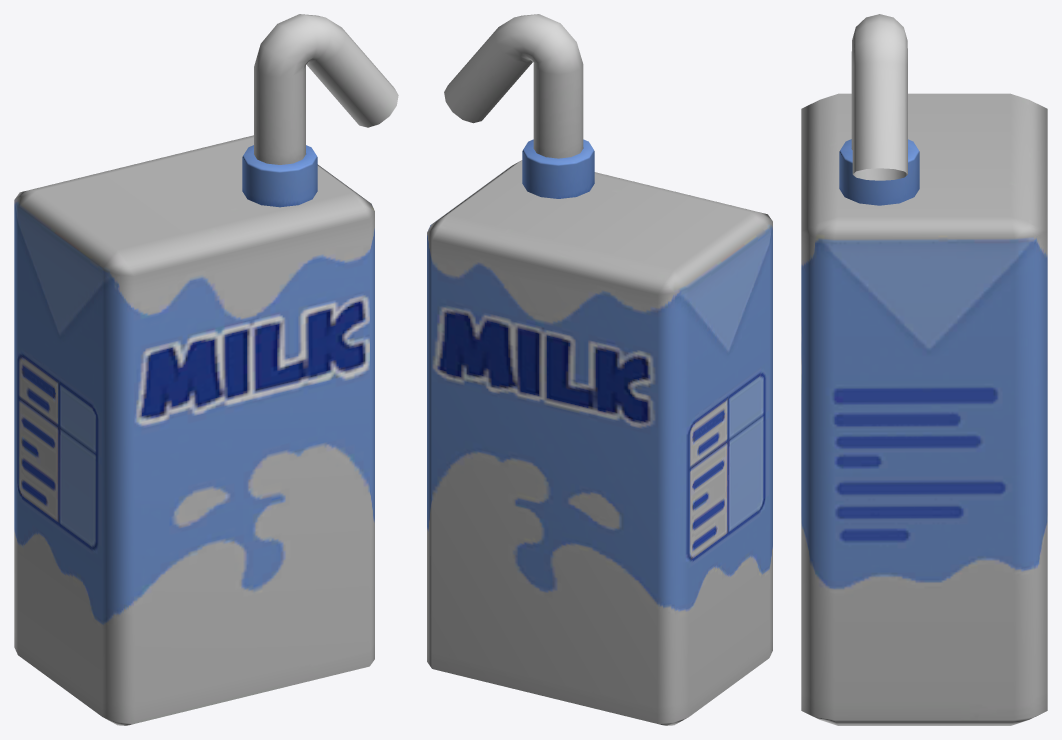
File: 0-milk_blue.fbx
3 views of the same model, side by side, from view 1: azimuth 30°, elevation 25°; view 2: azimuth 150°, elevation 25°; view 3: azimuth 270°, elevation 25° (orthographic). The views are drawn at different scales.
Visible parts, largest first — view 1: 0-milk_blue; view 2: 0-milk_blue; view 3: 0-milk_blue.
Part boxes in pixels (x1,y1,x2,y2): 0-milk_blue: (14, 14, 398, 725); 0-milk_blue: (427, 14, 772, 725); 0-milk_blue: (801, 14, 1047, 725).
Size of the model in its own units: 46.1 by 90.47 by 29.24.
